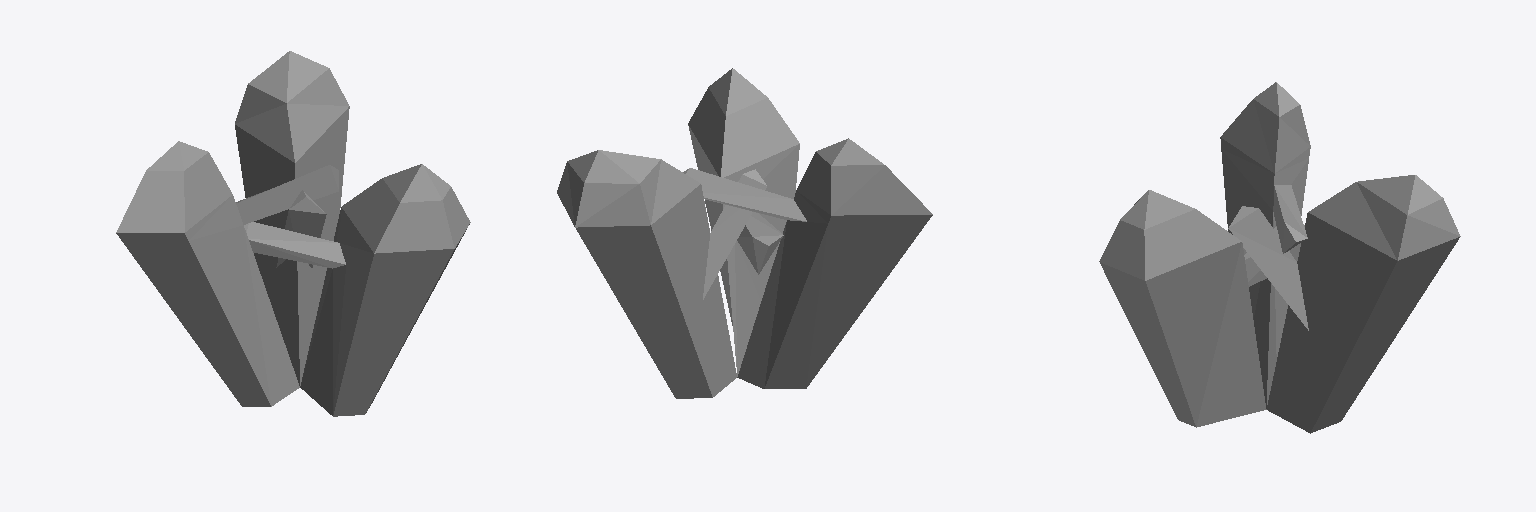
The model's file is CrystalItemHolder.obj.
The picture shows the model from 3 angles: view 1: azimuth 30°, elevation 25°; view 2: azimuth 150°, elevation 25°; view 3: azimuth 270°, elevation 25°; orthographic projection.
Parts seen in each view (by area): view 1: Cube; view 2: Cube; view 3: Cube.
Boxes of the visible parts, box(x1,y1,x2,y2) form: Cube: box(116, 51, 470, 416); Cube: box(557, 68, 932, 398); Cube: box(1099, 82, 1460, 433).
Bounding box in the file's own units: 0.6276 × 0.5332 × 0.6438.